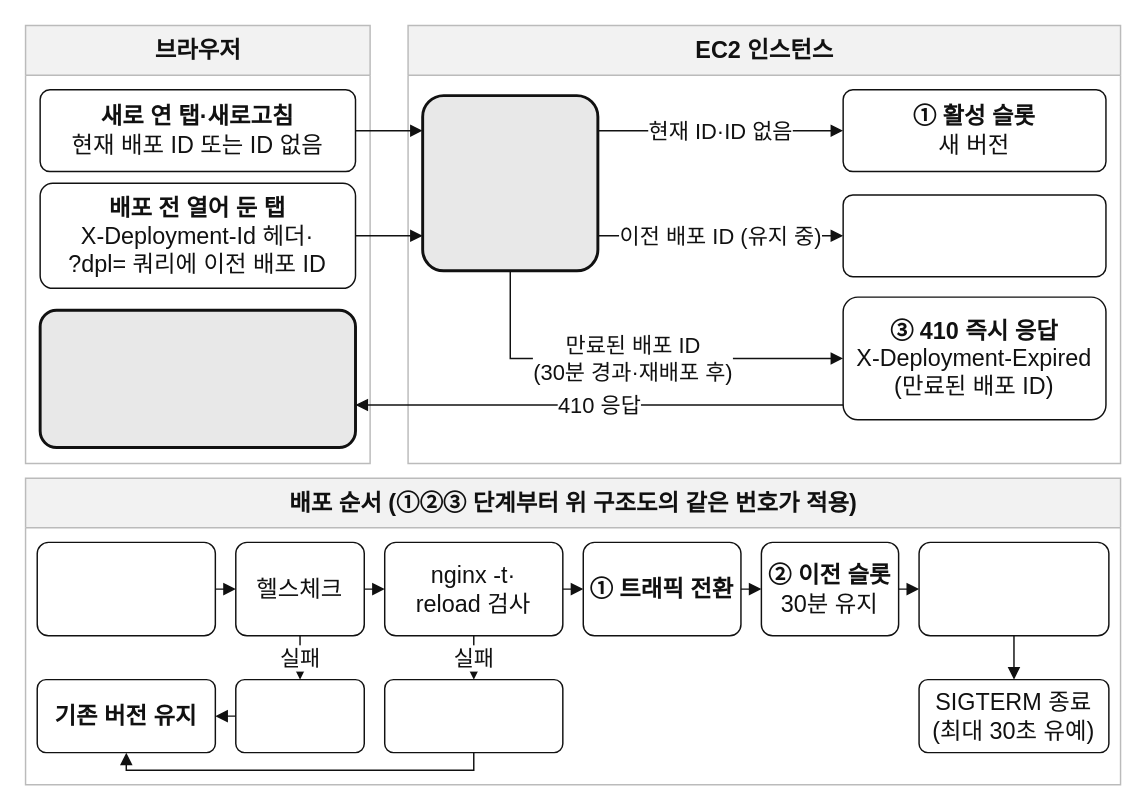
Image size: 1146x810. Some labels were removed from this diagram. Here are the shapes that lost their labels. From the top down, the centre of each, then its label:
the point at 509,182: Nginx map 배포 ID로 슬롯 선택
the point at 974,235: ② 이전 슬롯 이전 버전·30분 유지
the point at 197,378: 만료 감지 410·ChunkLoadError 폼 미수정 → 즉시 새로고침 폼 수정 중 → 모달·입력 복원
the point at 125,588: 새 이미지 pull 대기 슬롯에 실행
the point at 1013,588: ③ 만료 처리 만료 목록·reload (재배포 시 즉시)
the point at 299,715: 새 컨테이너 중지
the point at 473,715: 설정 원복 후 새 컨테이너 중지
